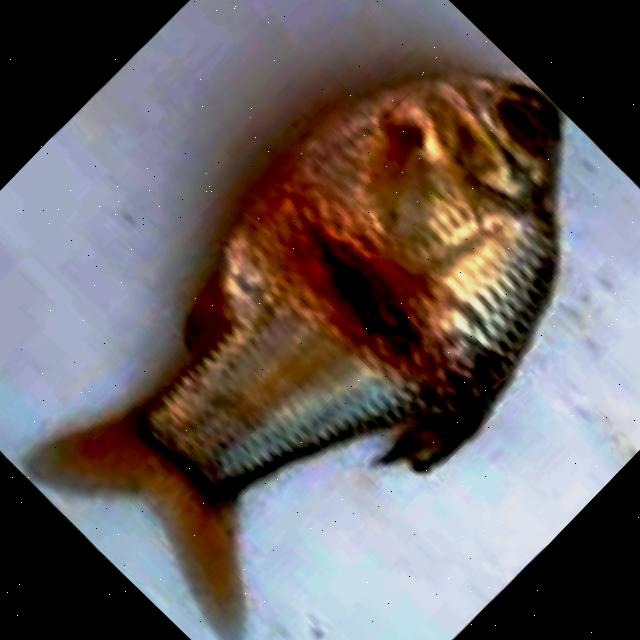Edwardsiella Ictaluri -Bacterial Red Disease-: (34, 72, 558, 633), (34, 72, 558, 633), (34, 72, 558, 633), (34, 72, 558, 633)
